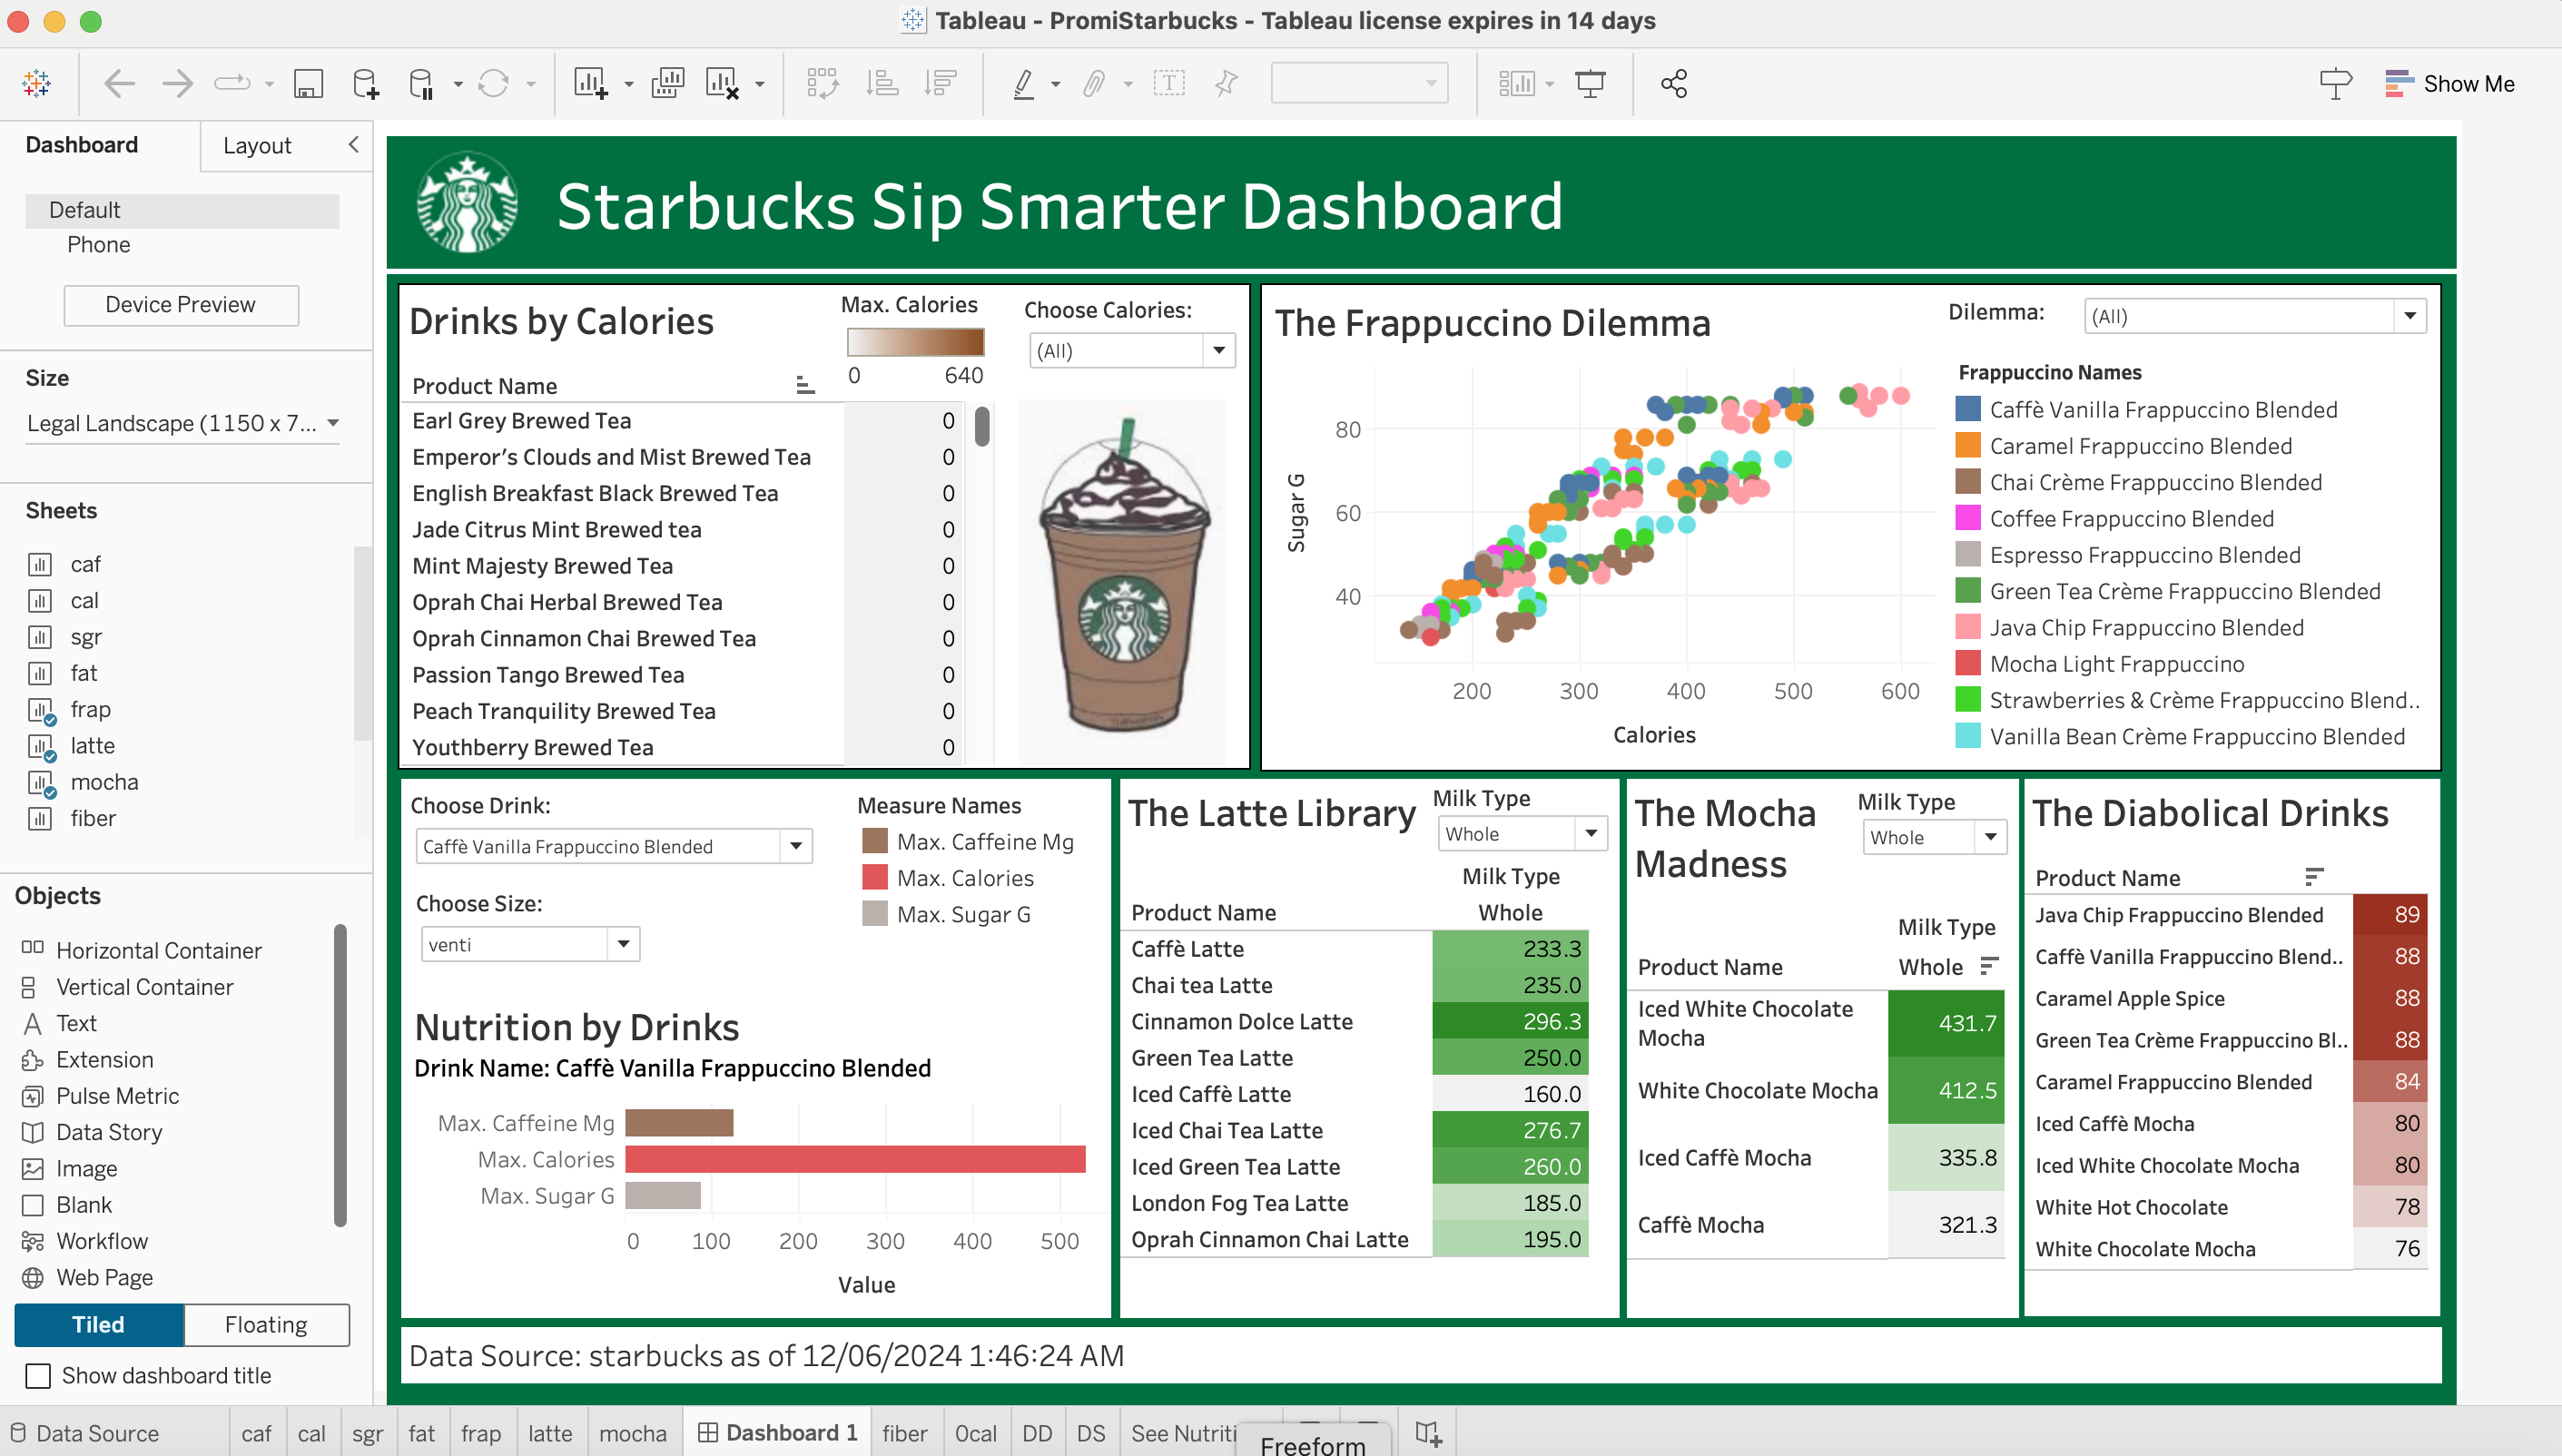

What the dashboard file says about the page in this screenshot:
{"tool":"tableau","page":{"name":"Dashboard 1","canvas":[1150,700],"ordinal":0},"visuals":[{"type":"title","box":[7,9,1140,73]},{"type":"image","param":"Image/starbucks logo.jpg","box":[20,14,63,63]},{"type":"worksheet","title":"0cal","mark":"Square","rows":["product_name"],"box":[15,92,330,264]},{"type":"legend","title":"0cal","param":"[federated.0z81r831plqot814upbsb1a7sgo2].[max:calories:qk]","box":[257,93,84,54]},{"type":"worksheet","title":"frap","mark":"Circle","rows":["sugar_g"],"cols":["calories"],"box":[492,93,368,261]},{"type":"filter","title":"frap","param":"[federated.0z81r831plqot814upbsb1a7sgo2].[none:Calculation_2112540091042942978:n","box":[867,95,267,29]},{"type":"filter","title":"0cal","param":"[federated.0z81r831plqot814upbsb1a7sgo2].[none:Calculation_2112540091103793157:n","box":[358,96,120,52]},{"type":"legend","title":"frap","param":"[federated.0z81r831plqot814upbsb1a7sgo2].[attr:product_name:nk]","box":[868,131,268,226]},{"type":"image","param":"Image/cup.jpeg","box":[355,154,120,202]},{"type":"blank","box":[15,363,391,297]},{"type":"worksheet","title":"latte","mark":"Square","rows":["product_name"],"cols":["Calculation_2112540091071864835"],"box":[411,363,275,297]},{"type":"worksheet","title":"mocha","mark":"Square","rows":["product_name"],"cols":["Calculation_2112540091071864835"],"box":[690,363,216,297]},{"type":"worksheet","title":"DD","mark":"Square","rows":["product_name"],"box":[909,363,229,296]},{"type":"filter","title":"latte","param":"[federated.0z81r831plqot814upbsb1a7sgo2].[none:Calculation_2112540091071864835:n","box":[583,365,100,39]},{"type":"filter","title":"mocha","param":"[federated.0z81r831plqot814upbsb1a7sgo2].[none:Calculation_2112540091071864835:n","box":[817,367,86,39]},{"type":"filter","title":"See Nutrition","param":"[federated.0z81r831plqot814upbsb1a7sgo2].[none:product_name:nk]","box":[20,369,225,45]},{"type":"legend","title":"See Nutrition","param":"[federated.0z81r831plqot814upbsb1a7sgo2].[:Measure Names]","box":[266,369,134,82]},{"type":"filter","title":"See Nutrition","param":"[federated.0z81r831plqot814upbsb1a7sgo2].[none:size:nk]","box":[23,423,127,47]},{"type":"worksheet","title":"See Nutrition","mark":"Automatic","box":[18,481,387,179]},{"type":"worksheet","title":"DS","mark":"Automatic","box":[15,665,1124,31]}]}

Visuals, with their boxes on the page's 1150x700 design canvas (x1, y1, x2, y2). These are canvas units, not pixel positions in the 2562x1456 screenshot, which may show the page scaled, cropped or inside an application window:
title: (7,9,1147,82)
image: (20,14,83,77)
"0cal" worksheet (Square marks): (15,92,345,356)
"0cal" legend: (257,93,341,147)
"frap" worksheet (Circle marks): (492,93,860,354)
"frap" filter: (867,95,1134,124)
"0cal" filter: (358,96,478,148)
"frap" legend: (868,131,1136,357)
image: (355,154,475,356)
blank: (15,363,406,660)
"latte" worksheet (Square marks): (411,363,686,660)
"mocha" worksheet (Square marks): (690,363,906,660)
"DD" worksheet (Square marks): (909,363,1138,659)
"latte" filter: (583,365,683,404)
"mocha" filter: (817,367,903,406)
"See Nutrition" filter: (20,369,245,414)
"See Nutrition" legend: (266,369,400,451)
"See Nutrition" filter: (23,423,150,470)
"See Nutrition" worksheet: (18,481,405,660)
"DS" worksheet: (15,665,1139,696)
